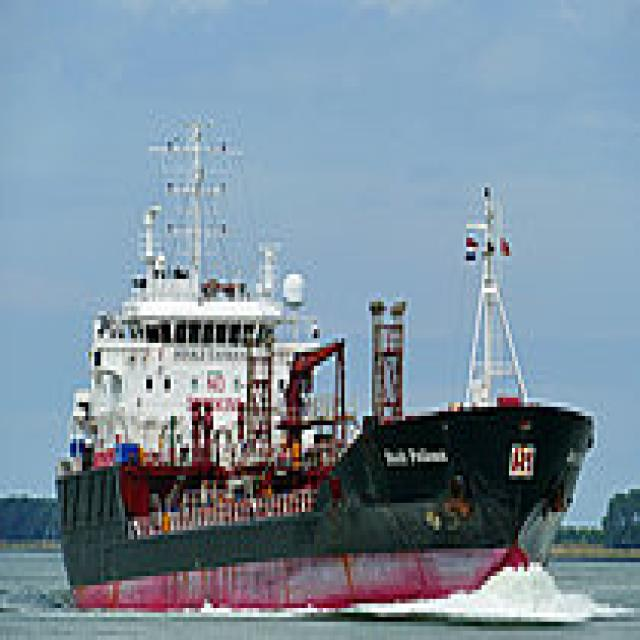Tanker: (49, 100, 597, 612)
